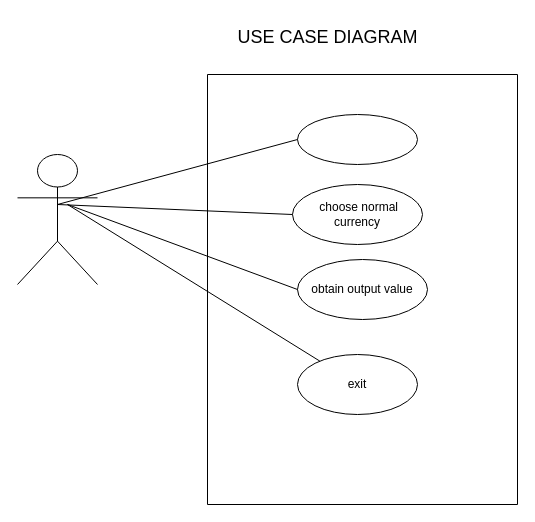
Some shapes in this 535 by 522 pixel diagram are drawn without their labels. The box of each missing label's shape, as (x1, y1, x2, y2) in pixels:
enter crypto currency: (296, 114, 418, 164)
user: (16, 154, 98, 284)
